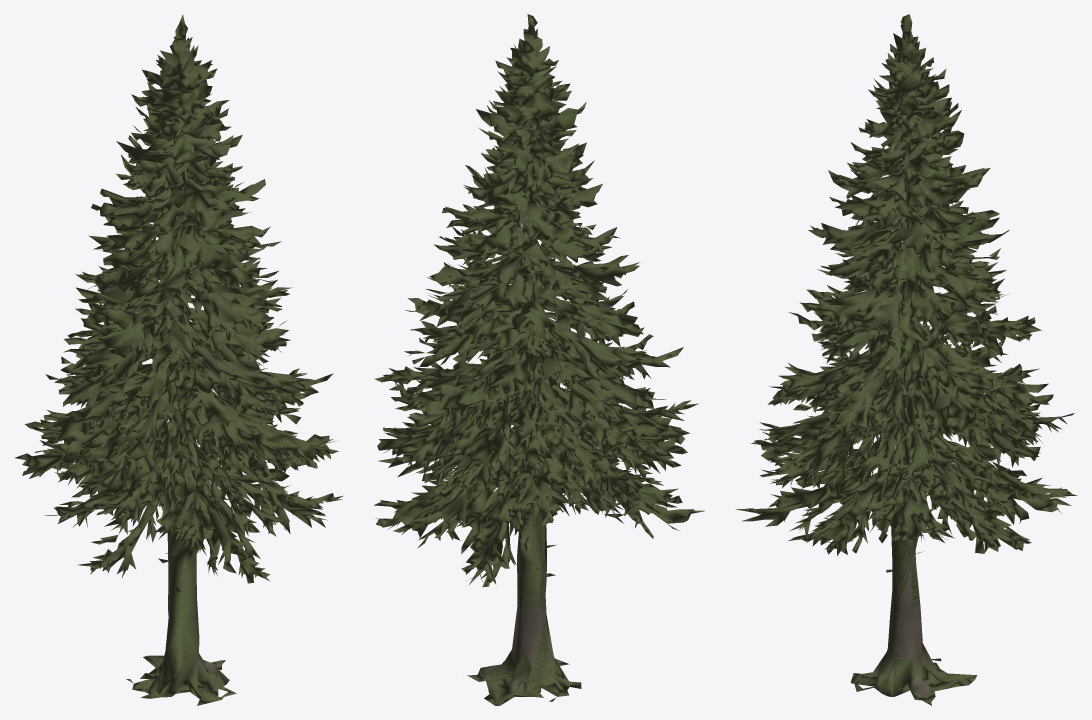
Rendered from tree_pine.glb.
3 renders of one model, left to right at view 1: azimuth 30°, elevation 25°; view 2: azimuth 150°, elevation 25°; view 3: azimuth 270°, elevation 25°, orthographic.
Visible parts, largest first — view 1: tree_pine; view 2: tree_pine; view 3: tree_pine.
Boxes of the visible parts, bbox=[...] form: tree_pine: bbox=[15, 14, 343, 705]; tree_pine: bbox=[374, 14, 704, 705]; tree_pine: bbox=[736, 14, 1077, 705].
Bounding box in the file's own units: 0.8643 × 1.9 × 0.8854.
1 material, 1 textured.
